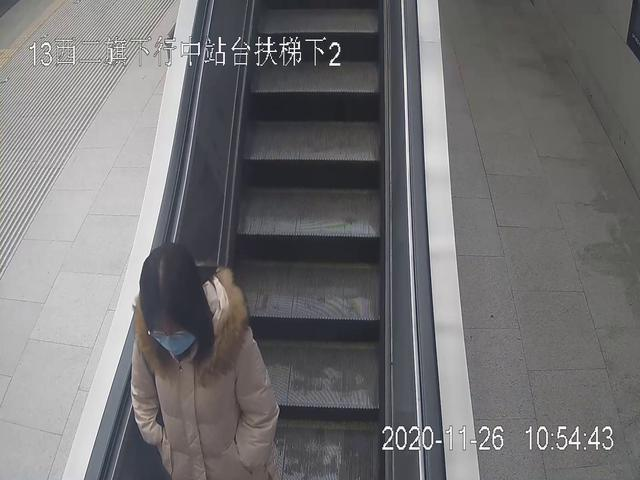person: (130, 244, 279, 480)
